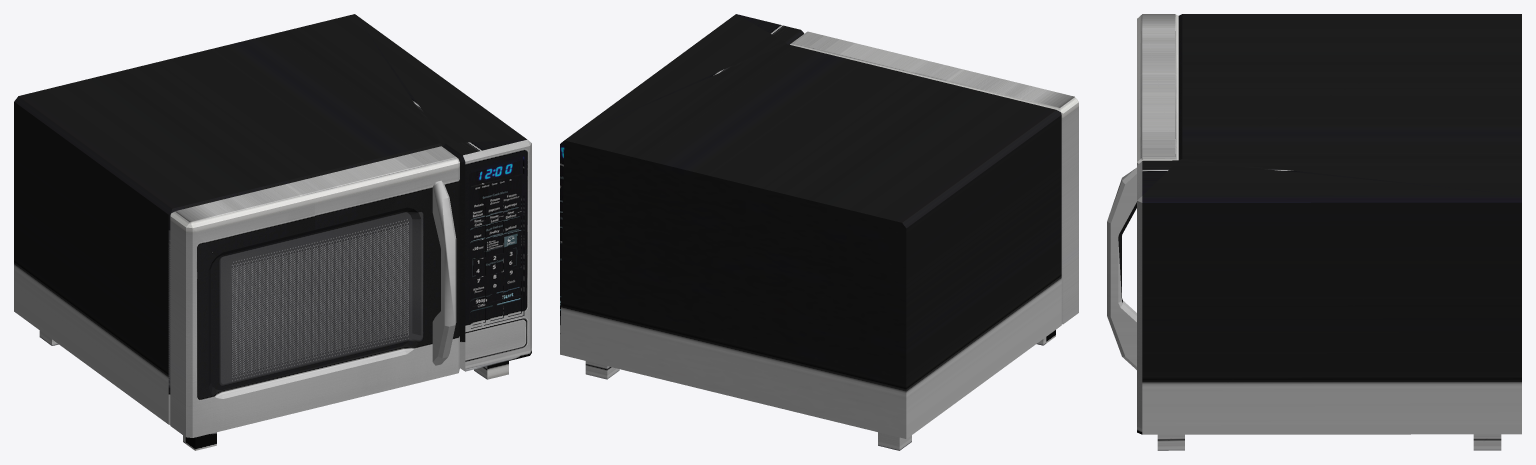
File: microwave.glb
3 renders of one model, left to right at view 1: azimuth 30°, elevation 25°; view 2: azimuth 150°, elevation 25°; view 3: azimuth 270°, elevation 25°, orthographic. The views are drawn at different scales.
Visible parts, largest first — view 1: object2.004, object1.003; view 2: object2.004, object1.003; view 3: object2.004, object1.003.
Boxes of the visible parts, left/top/right/bottom form: object2.004: left=14, top=14, right=531, bottom=443; object1.003: left=170, top=146, right=459, bottom=450; object2.004: left=560, top=14, right=1061, bottom=450; object1.003: left=790, top=31, right=1078, bottom=343; object2.004: left=1137, top=14, right=1521, bottom=450; object1.003: left=1107, top=14, right=1178, bottom=369.
Size of the model in its own units: 0.6013 by 0.3938 by 0.5657.
1 material, 1 textured.
